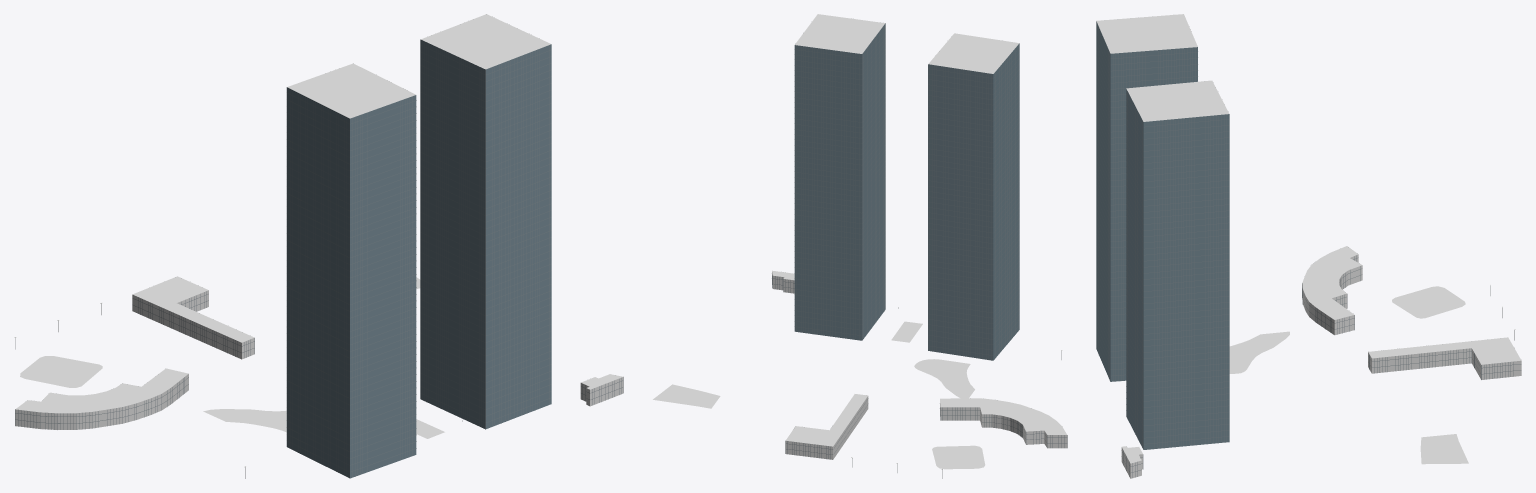
3 views of the same model, side by side, from view 1: azimuth 30°, elevation 25°; view 2: azimuth 150°, elevation 25°; view 3: azimuth 270°, elevation 25° (orthographic). The views are drawn at different scales.
Parts seen in each view (by area): view 1: 3_1_超高层蓝灰幕墙, 3_1_城市金属细框, 3_1_v02 深灰屋面, 3_1_v02 米白石材, 3_1_v02 草地; view 2: 3_1_超高层蓝灰幕墙, 3_1_城市金属细框, 3_1_v02 深灰屋面, 3_1_v02 草地, 3_1_v02 米白石材; view 3: 3_1_超高层蓝灰幕墙, 3_1_城市金属细框, 3_1_v02 深灰屋面, 3_1_v02 米白石材, 3_1_v02 草地.
Part boxes in pixels (<box>): 3_1_超高层蓝灰幕墙: <box>287,40,551,478</box>; 3_1_城市金属细框: <box>15,39,623,478</box>; 3_1_v02 深灰屋面: <box>15,14,622,413</box>; 3_1_v02 米白石材: <box>15,290,623,429</box>; 3_1_v02 草地: <box>20,277,444,438</box>; 3_1_超高层蓝灰幕墙: <box>794,24,1019,360</box>; 3_1_城市金属细框: <box>772,23,1067,459</box>; 3_1_v02 深灰屋面: <box>772,14,1066,446</box>; 3_1_v02 草地: <box>653,321,985,469</box>; 3_1_v02 米白石材: <box>772,272,1067,459</box>; 3_1_超高层蓝灰幕墙: <box>1096,21,1229,449</box>; 3_1_城市金属细框: <box>1096,27,1521,477</box>; 3_1_v02 深灰屋面: <box>1096,14,1521,463</box>; 3_1_v02 米白石材: <box>1121,254,1521,478</box>; 3_1_v02 草地: <box>1229,286,1468,464</box>.
Size of the model in its own units: 307 by 216 by 253.
